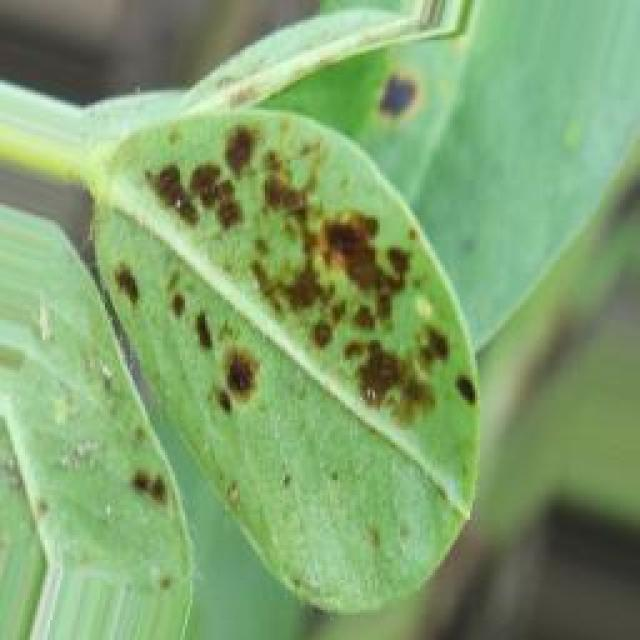Whitefly: (64, 52, 511, 541)
